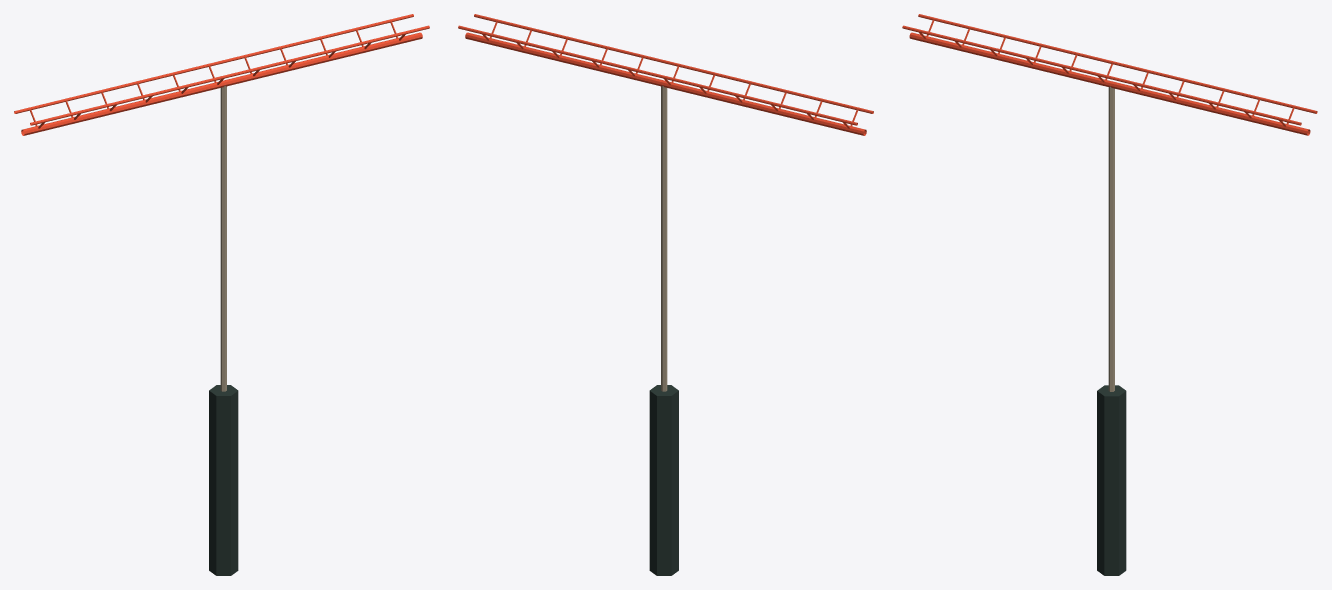
File: RollerCoaster_B.fbx
3 renders of one model, left to right at view 1: azimuth 30°, elevation 25°; view 2: azimuth 150°, elevation 25°; view 3: azimuth 330°, elevation 25°, orthographic.
Parts seen in each view (by area): view 1: RollerCoaster_B; view 2: RollerCoaster_B; view 3: RollerCoaster_B.
Part boxes in pixels (x1,y1,x2,y2): RollerCoaster_B: (14,14,429,575); RollerCoaster_B: (458,14,873,575); RollerCoaster_B: (902,14,1317,575).
Bounding box in the file's own units: 579 × 698 × 44.08.
